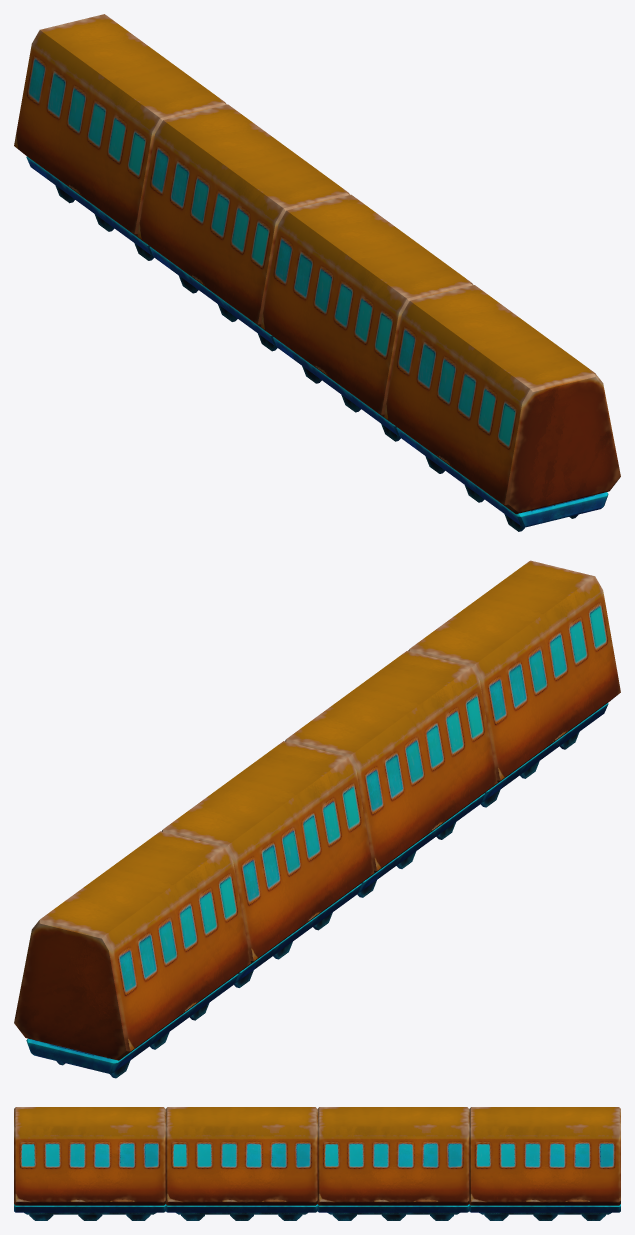
The model's file is train.glb.
3 views of the same model, one above another, from view 1: azimuth 30°, elevation 25°; view 2: azimuth 150°, elevation 25°; view 3: azimuth 270°, elevation 25° (orthographic). The views are drawn at different scales.
Visible parts, largest first — view 1: train.008; view 2: train.008; view 3: train.008.
Boxes of the visible parts, x1=… form: train.008: x1=14, y1=14, x2=620, y2=531; train.008: x1=14, y1=560, x2=620, y2=1078; train.008: x1=14, y1=1107, x2=620, y2=1220.
Bounding box in the file's own units: 2.68 × 3.42 × 19.69.
1 material, 1 textured.
